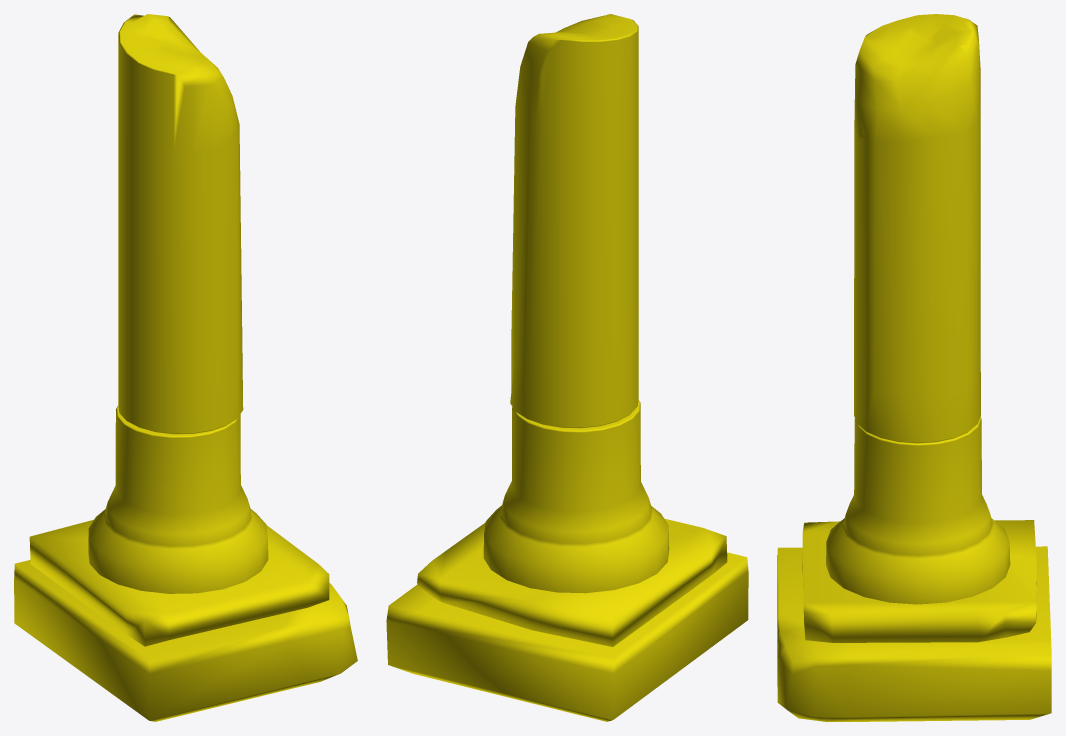
Rendered from Pillar_03_Lod0.fbx.
3 views of the same model, side by side, from view 1: azimuth 30°, elevation 25°; view 2: azimuth 150°, elevation 25°; view 3: azimuth 270°, elevation 25° (orthographic). The views are drawn at different scales.
Visible parts, largest first — view 1: Pillar_03_Lod0; view 2: Pillar_03_Lod0; view 3: Pillar_03_Lod0.
Part boxes in pixels (x1,y1,x2,y2): Pillar_03_Lod0: [14, 14, 357, 721]; Pillar_03_Lod0: [386, 14, 748, 721]; Pillar_03_Lod0: [777, 14, 1051, 721].
Size of the model in its own units: 563 by 1521 by 594.
